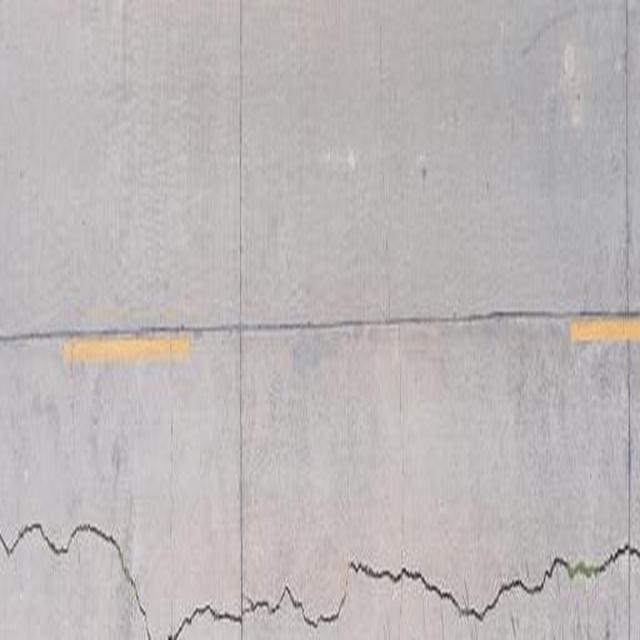minor crack: (370, 34, 415, 638)
moderate crack: (242, 20, 333, 632), (562, 0, 627, 319), (11, 312, 636, 344), (231, 11, 246, 617), (620, 14, 634, 624), (61, 332, 192, 363), (519, 4, 586, 60), (562, 42, 583, 128), (123, 593, 148, 638), (560, 558, 608, 579), (458, 605, 483, 618), (507, 612, 518, 638), (603, 618, 612, 639), (166, 633, 179, 640)
severe crack: (340, 540, 638, 621), (0, 519, 165, 640), (160, 577, 352, 640), (114, 0, 132, 350), (481, 568, 550, 600), (64, 520, 126, 552), (4, 520, 62, 552), (348, 560, 425, 583), (166, 612, 203, 640), (240, 592, 281, 616), (200, 606, 245, 626), (314, 603, 347, 627), (276, 583, 301, 610)
